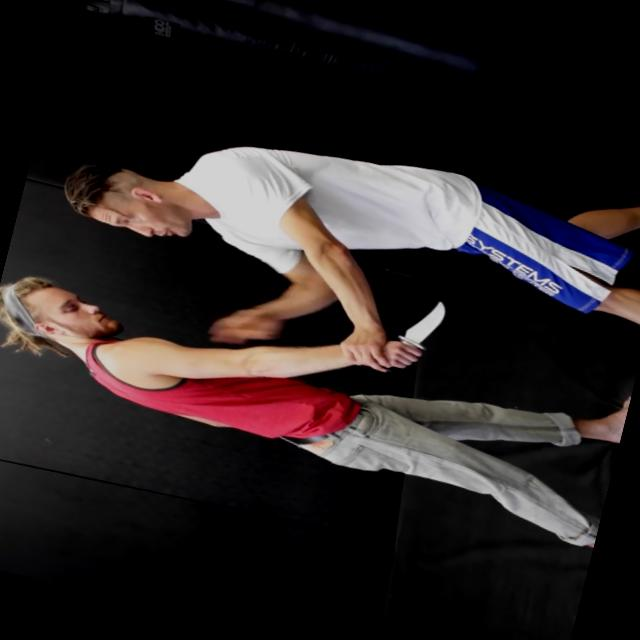knife: (382, 288, 458, 384)
